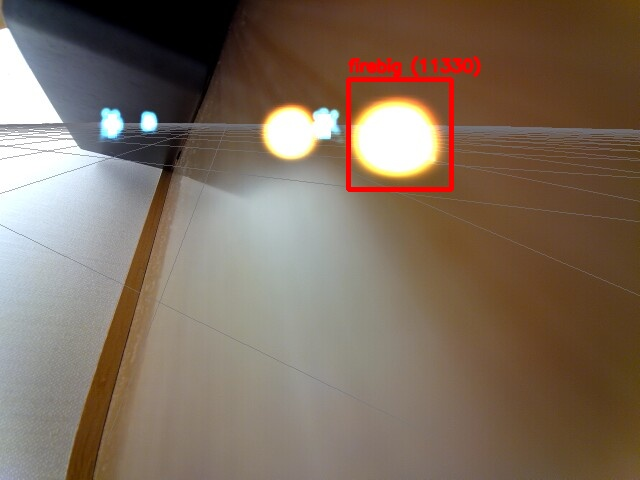firebig: (348, 79, 451, 189)
